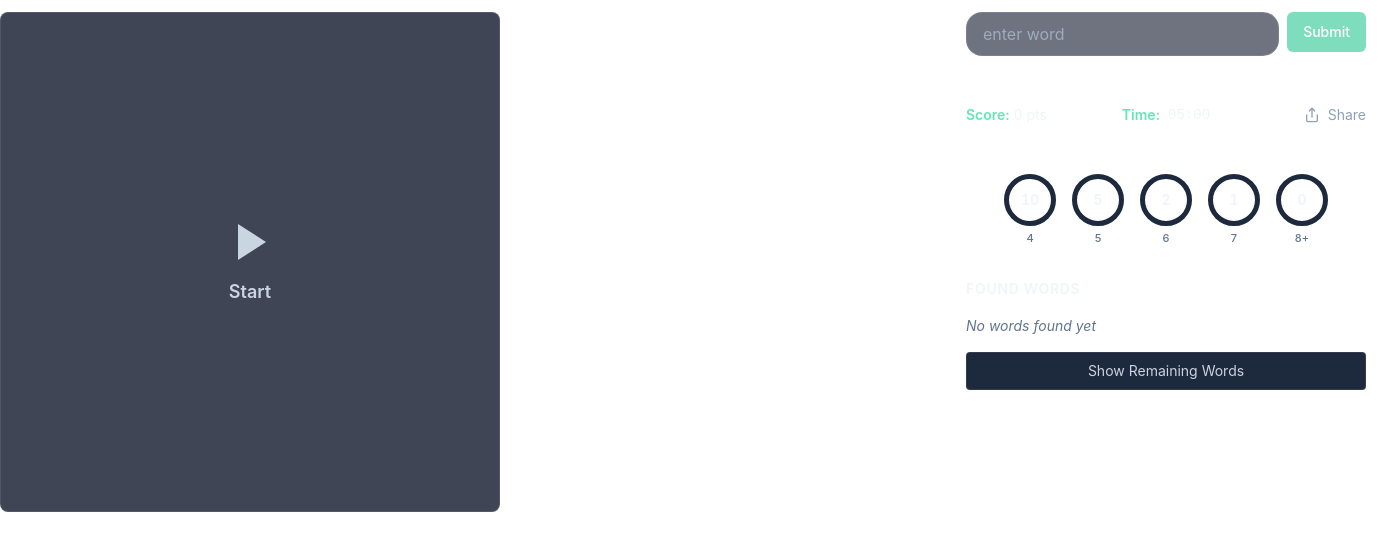
Test case: WordGrid › allows typing a word and submitting
The width and height of the screenshot is (1378, 541).
Start the game first
Click the button "Start": [250, 262] box [226,218,274,306]
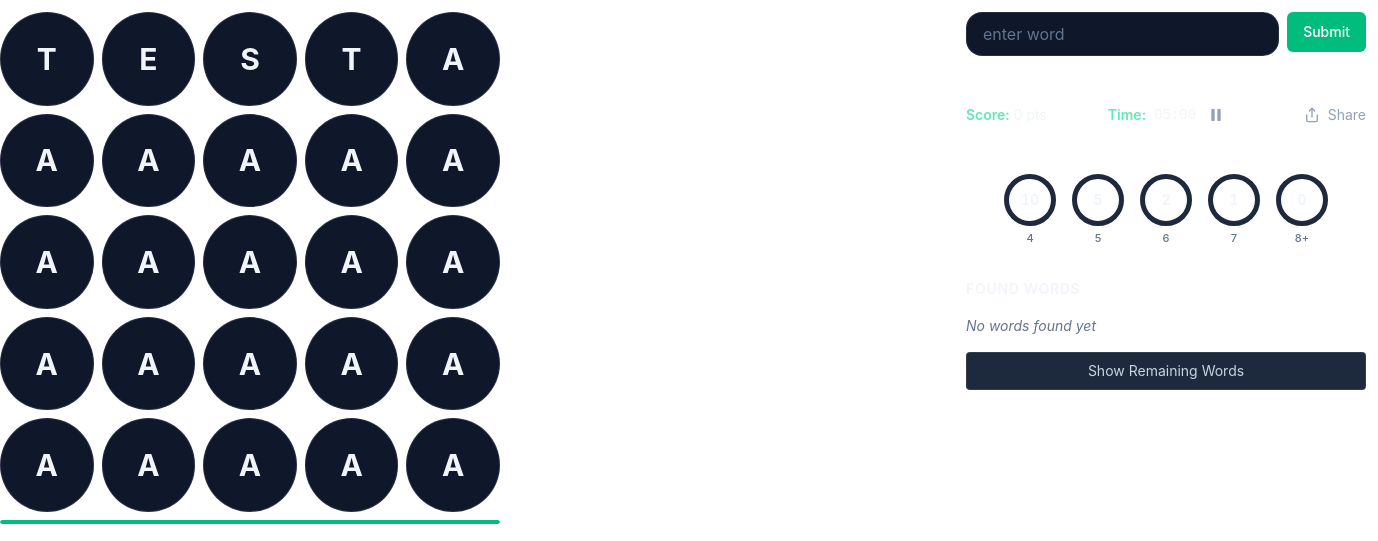
Result: the field with placeholder "enter word" is enabled
In the field with placeholder "enter word": [1123, 34] box [966,12,1279,56], type "TEST"
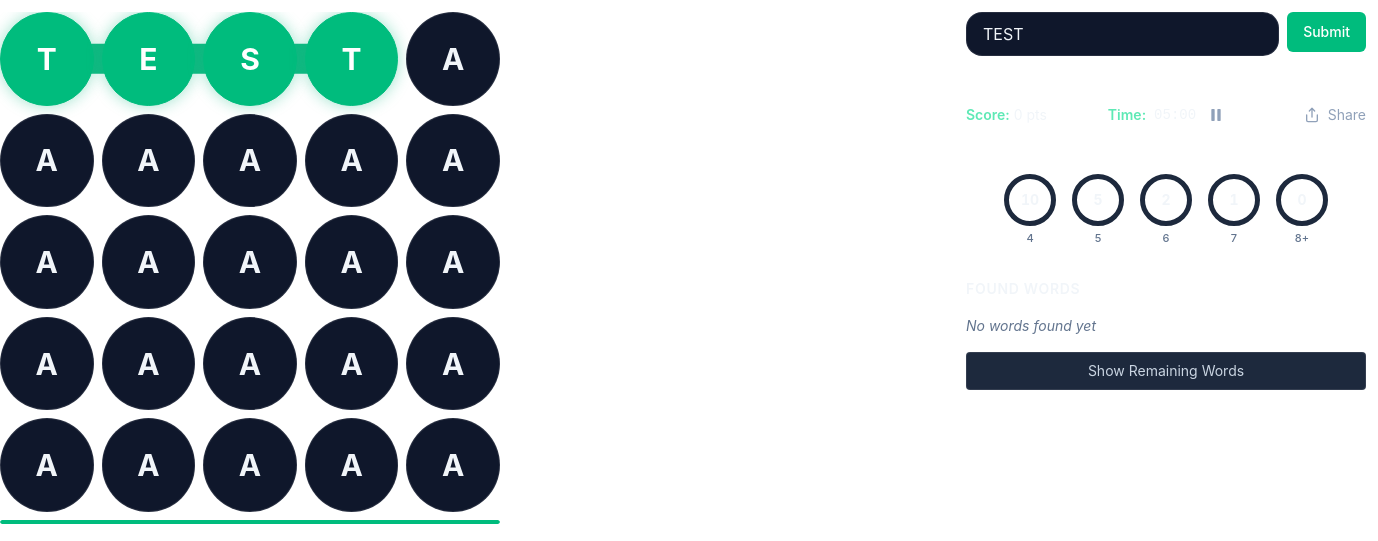
Click the button "Submit": [1327, 32] box [1287,12,1366,52]
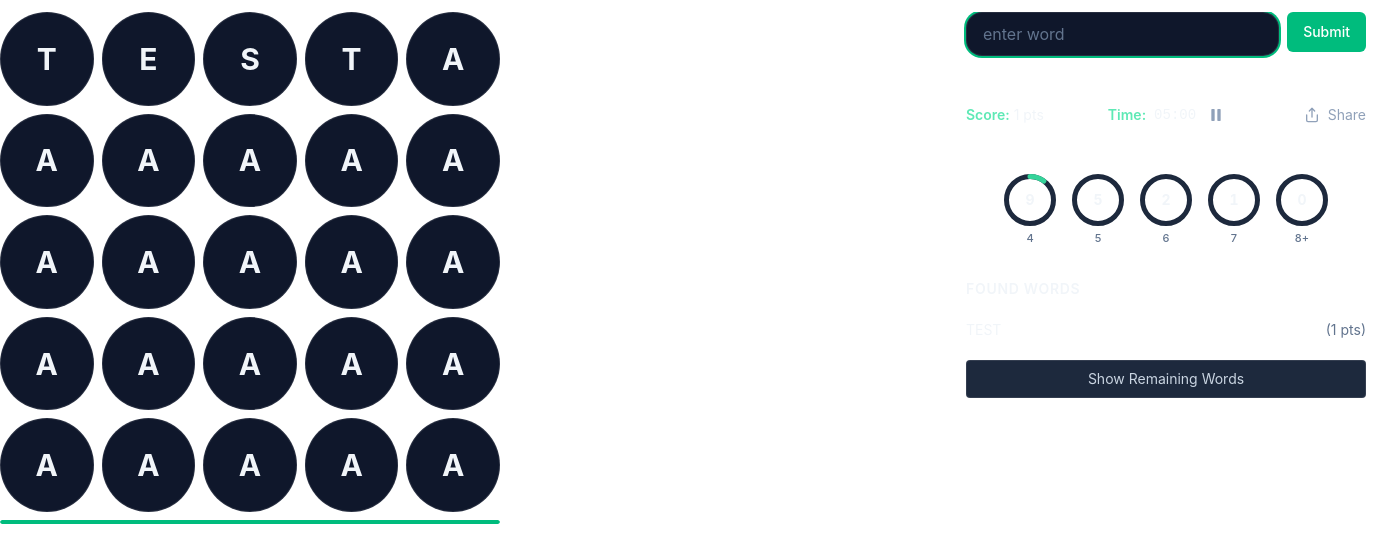
Result: the text "(1 pts)" is shown at [1326,320,1366,340]
